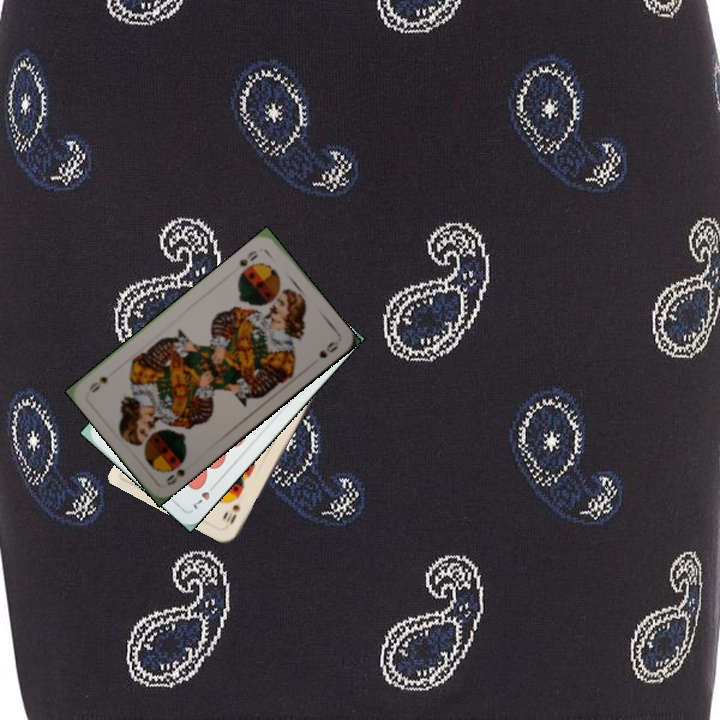H7: (189, 479, 220, 512)
S10: (222, 500, 243, 527)
SO: (162, 453, 190, 488), (235, 246, 260, 269)
